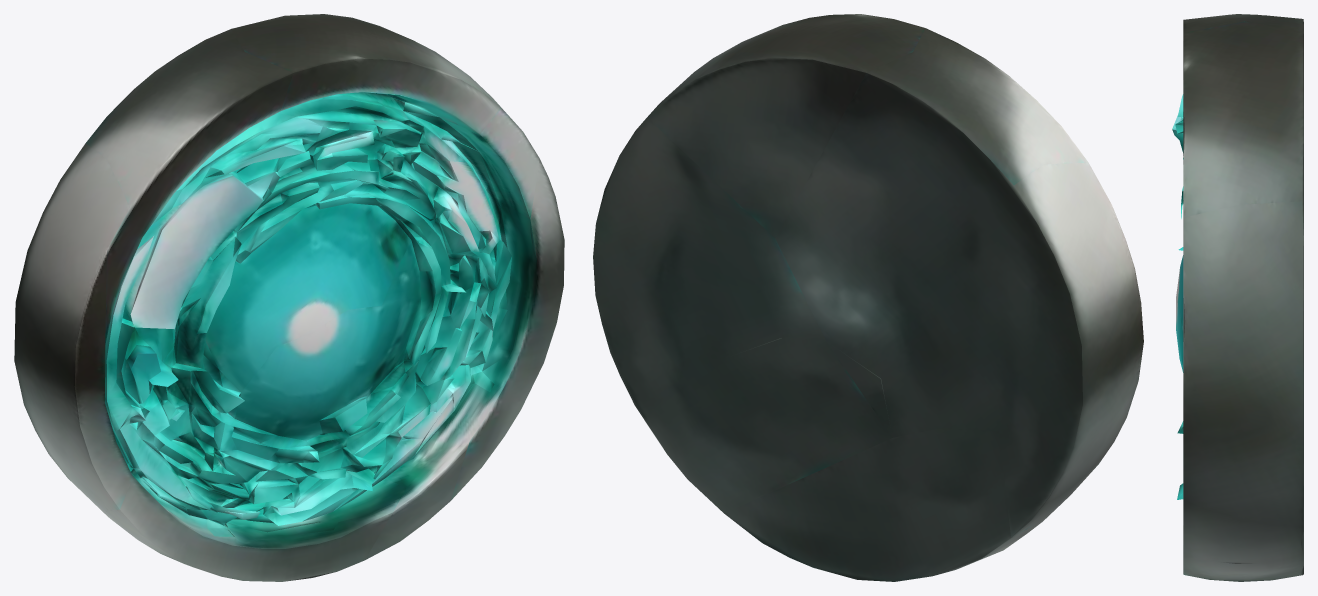
Rendered from m2AquaOrb.glb.
3 renders of one model, left to right at view 1: azimuth 30°, elevation 25°; view 2: azimuth 150°, elevation 25°; view 3: azimuth 270°, elevation 25°, orthographic.
Parts seen in each view (by area): view 1: model; view 2: model; view 3: model.
Part boxes in pixels (box(x1,y1,x2,y2)): model: box(14, 14, 564, 581); model: box(593, 14, 1143, 581); model: box(1172, 14, 1303, 581).
Size of the model in its own units: 1.9 by 1.91 by 0.4392.
Materials: 1 (1 with a texture image).
